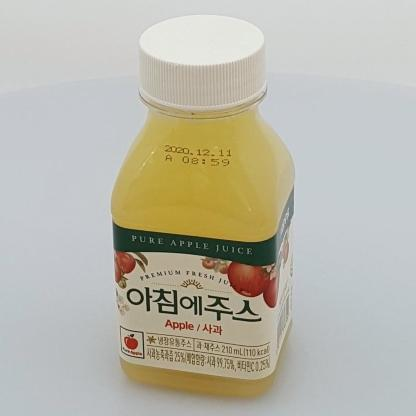-----------210ML: (111, 14, 295, 397)
